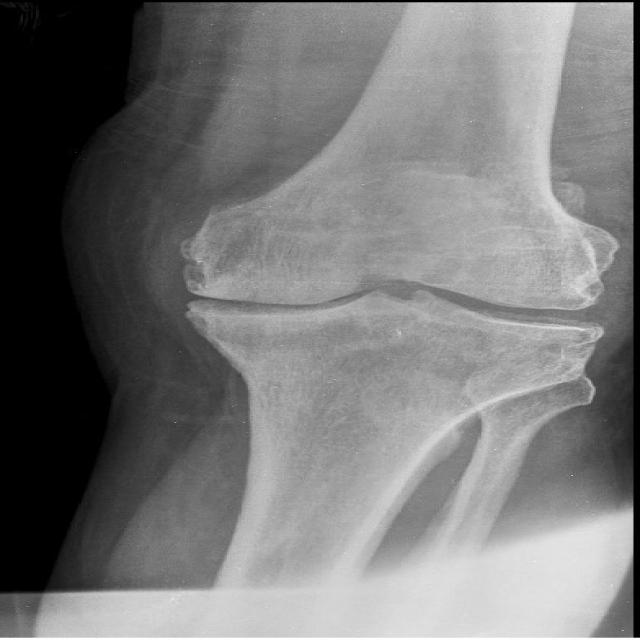osteo: (177, 196, 625, 391)
